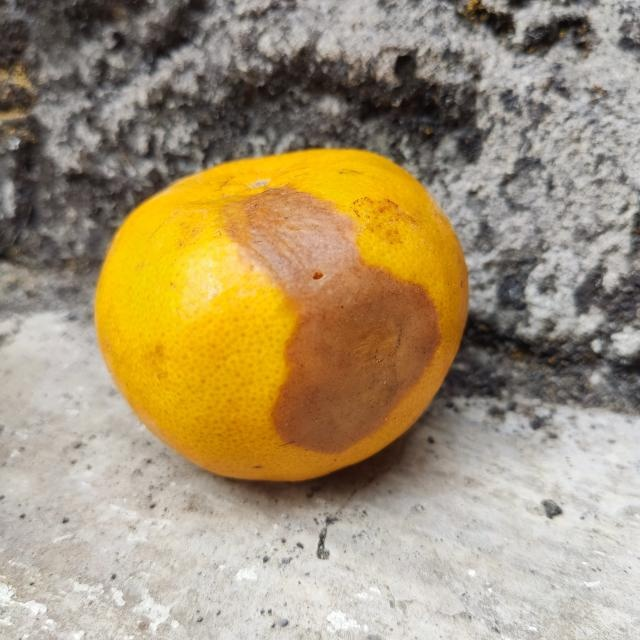agrume: (90, 148, 471, 480)
